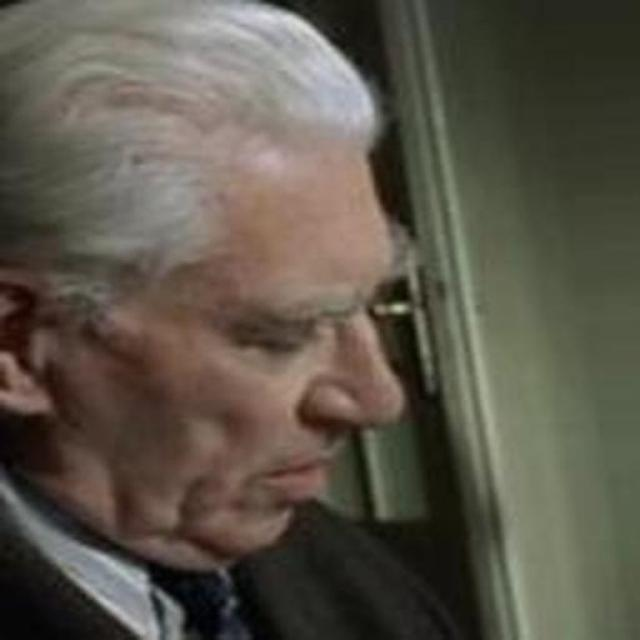bareface: (8, 10, 398, 562)
